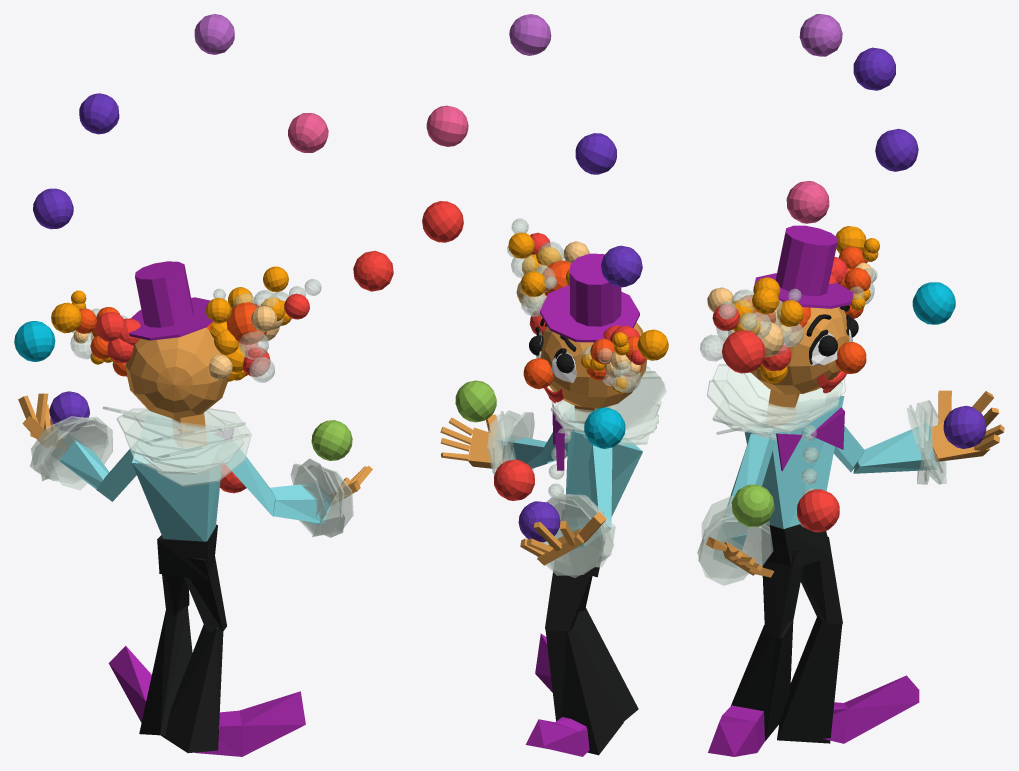
The model's file is clown_baby.glb.
3 views of the same model, side by side, from view 1: azimuth 30°, elevation 25°; view 2: azimuth 150°, elevation 25°; view 3: azimuth 270°, elevation 25° (orthographic). The views are drawn at different scales.
Parts seen in each view (by area): view 1: group1932164913, group805186838; view 2: group1932164913, group805186838; view 3: group1932164913, group805186838.
Part boxes in pixels (x1,y1,x2,y2): group1932164913: [14, 14, 393, 756]; group805186838: [30, 279, 353, 537]; group1932164913: [422, 14, 668, 756]; group805186838: [487, 218, 666, 577]; group1932164913: [706, 14, 1004, 756]; group805186838: [697, 267, 946, 585].
Bounding box in the file's own units: 0.6434 × 1.51 × 0.5641.
2 materials, 2 textured.
